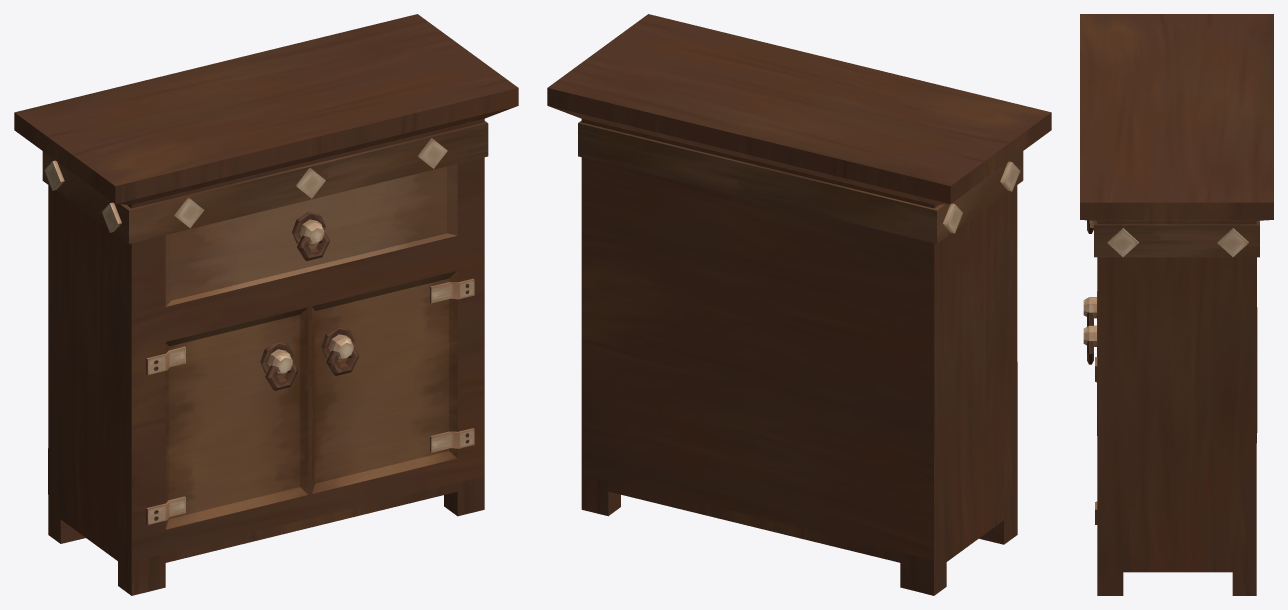
File: T_Tutorial_Nightstand.fbx
3 renders of one model, left to right at view 1: azimuth 30°, elevation 25°; view 2: azimuth 150°, elevation 25°; view 3: azimuth 270°, elevation 25°, orthographic. The views are drawn at different scales.
Parts seen in each view (by area): view 1: pCube6; view 2: pCube6; view 3: pCube6.
Boxes of the visible parts, <box> form: pCube6: <box>14,14,518,595</box>; pCube6: <box>547,14,1051,595</box>; pCube6: <box>1080,14,1273,595</box>.
Bounding box in the file's own units: 9.95 × 9.96 × 4.32.
Materials: 1 (1 with a texture image).
